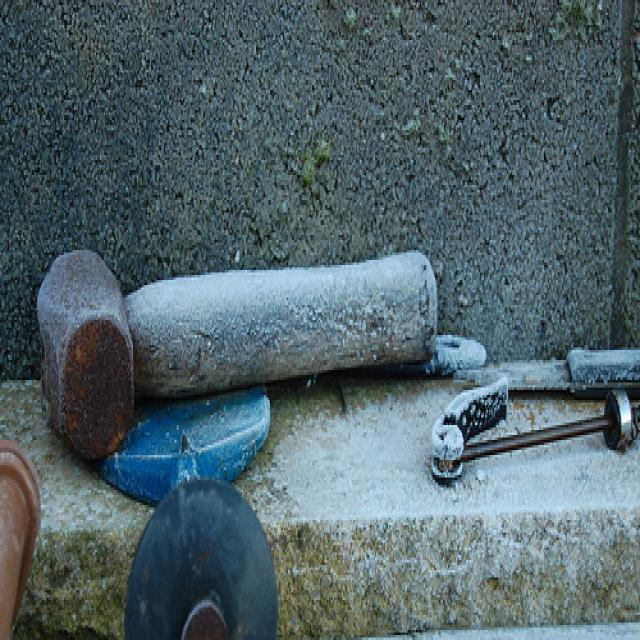hammer: (23, 193, 444, 473)
